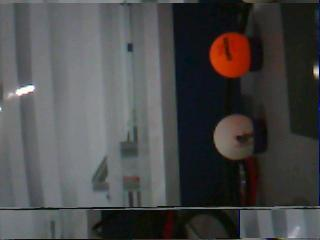oball: (209, 31, 249, 79)
